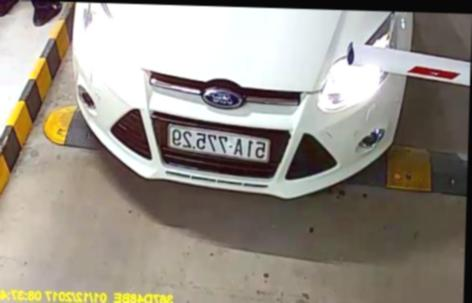License_Plate: (162, 127, 274, 159)
